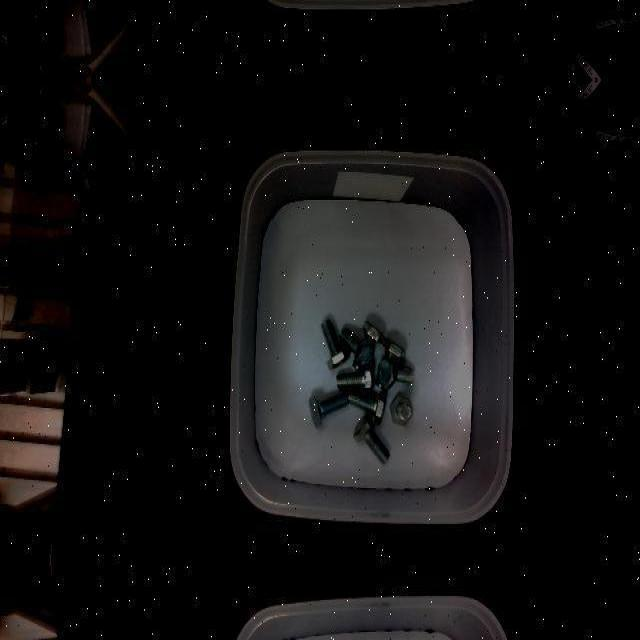screw: (353, 413, 391, 463), (320, 318, 349, 370), (309, 391, 348, 429), (376, 355, 414, 389), (347, 391, 386, 423), (337, 364, 374, 394), (390, 394, 413, 424)
